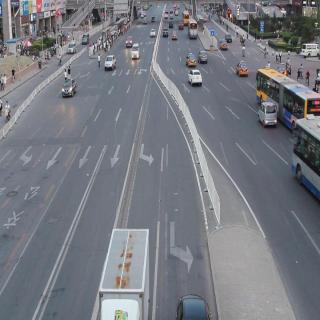BigCar: (100, 220, 159, 320), (250, 55, 320, 135), (188, 17, 201, 42), (180, 3, 192, 30)
Car: (57, 70, 80, 101), (102, 50, 123, 69), (233, 56, 246, 84), (64, 41, 79, 62), (185, 47, 198, 71), (197, 49, 210, 71), (127, 46, 143, 62), (216, 35, 226, 56), (189, 70, 203, 84), (169, 31, 181, 43), (124, 37, 132, 48), (178, 19, 184, 31), (163, 25, 169, 35), (224, 36, 228, 46)
